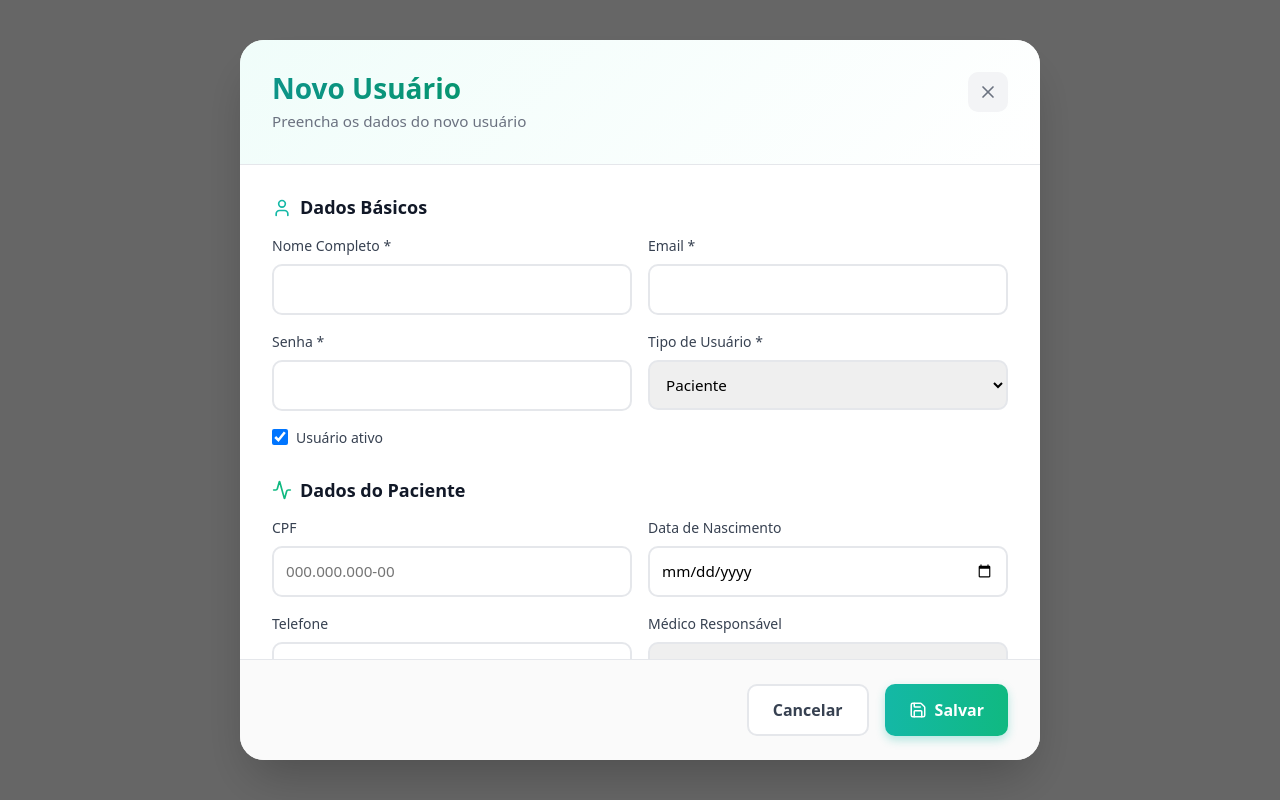
UserModal - Submissão e Validação › exibe erro se senha estiver vazia em novo usuário
Type "Novo User" into the field labelled "Nome Completo *".
click(452, 289); type("Novo User")  # box [272,264,632,315]
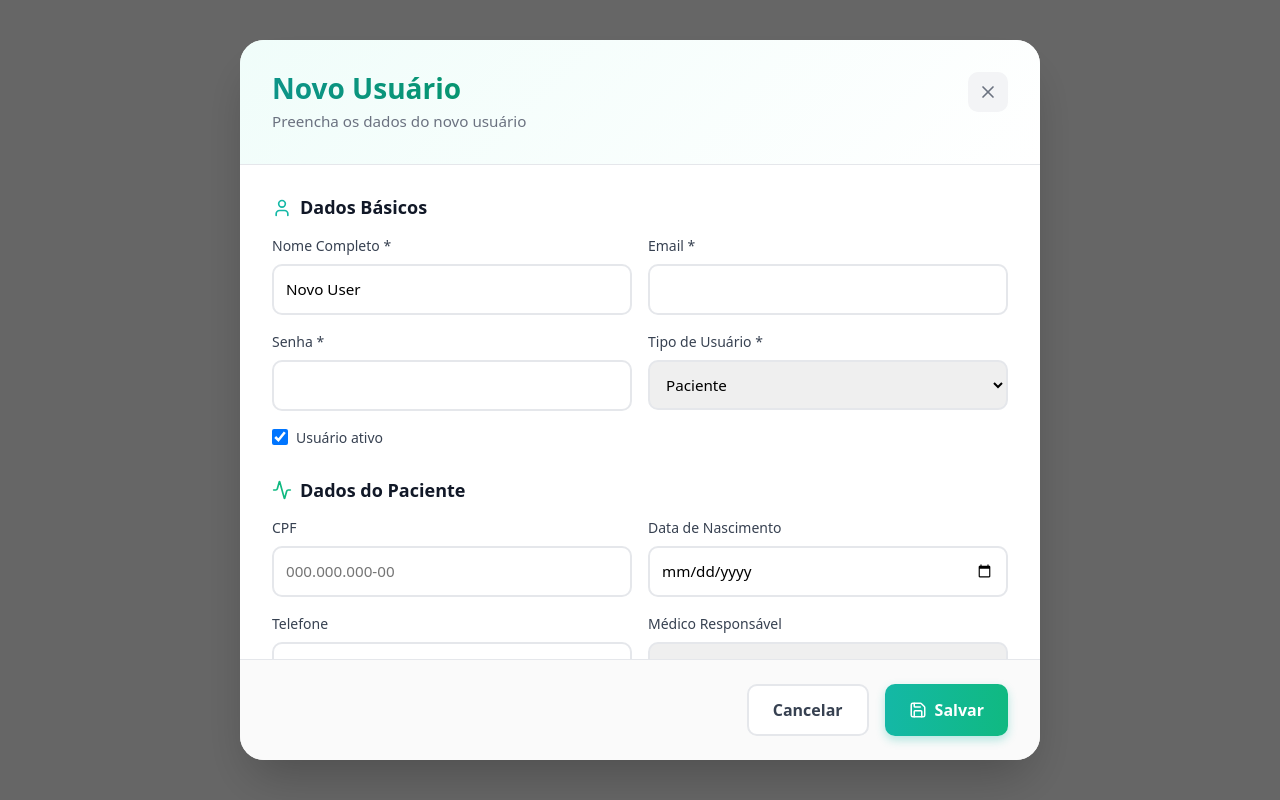
Type "novo@user.com" into the field labelled "Email *".
click(828, 289); type("novo@user.com")  # box [648,264,1008,315]
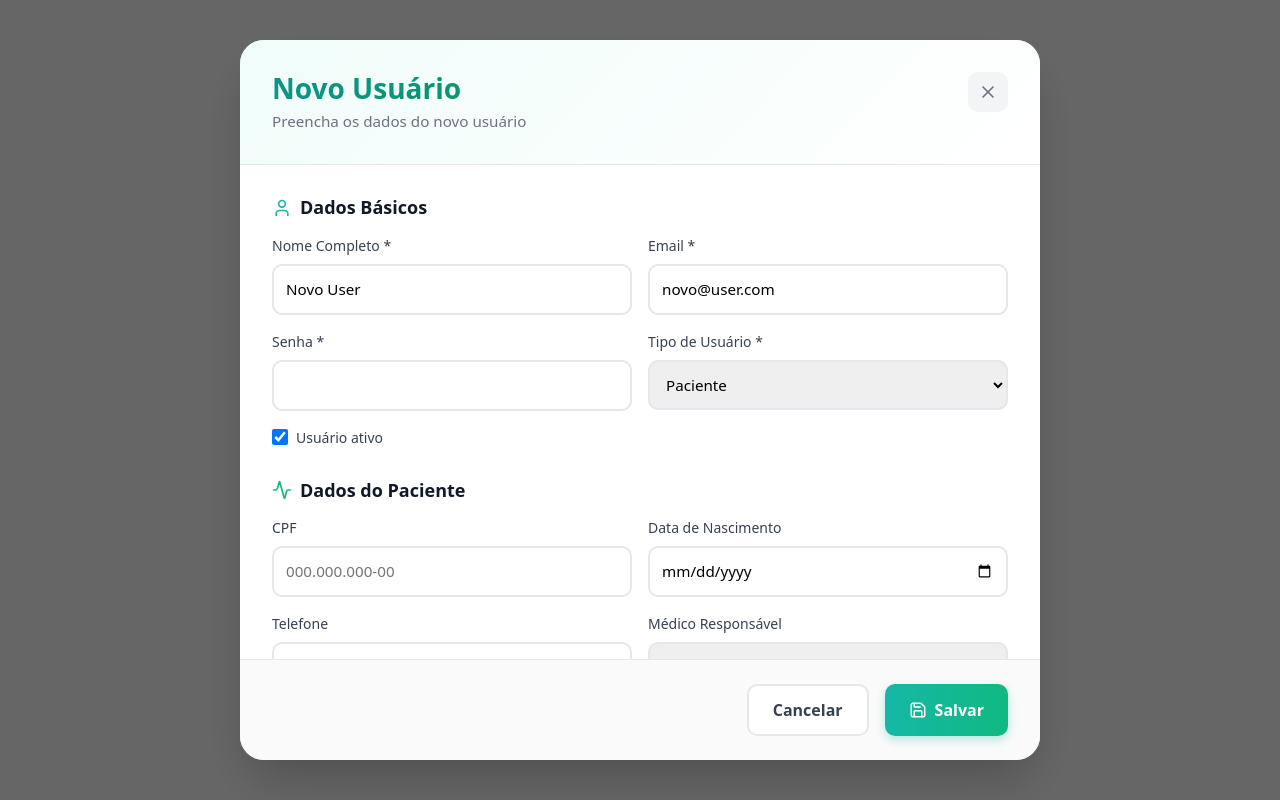
Click the button "Salvar".
click(946, 710)  # box [885,684,1008,736]
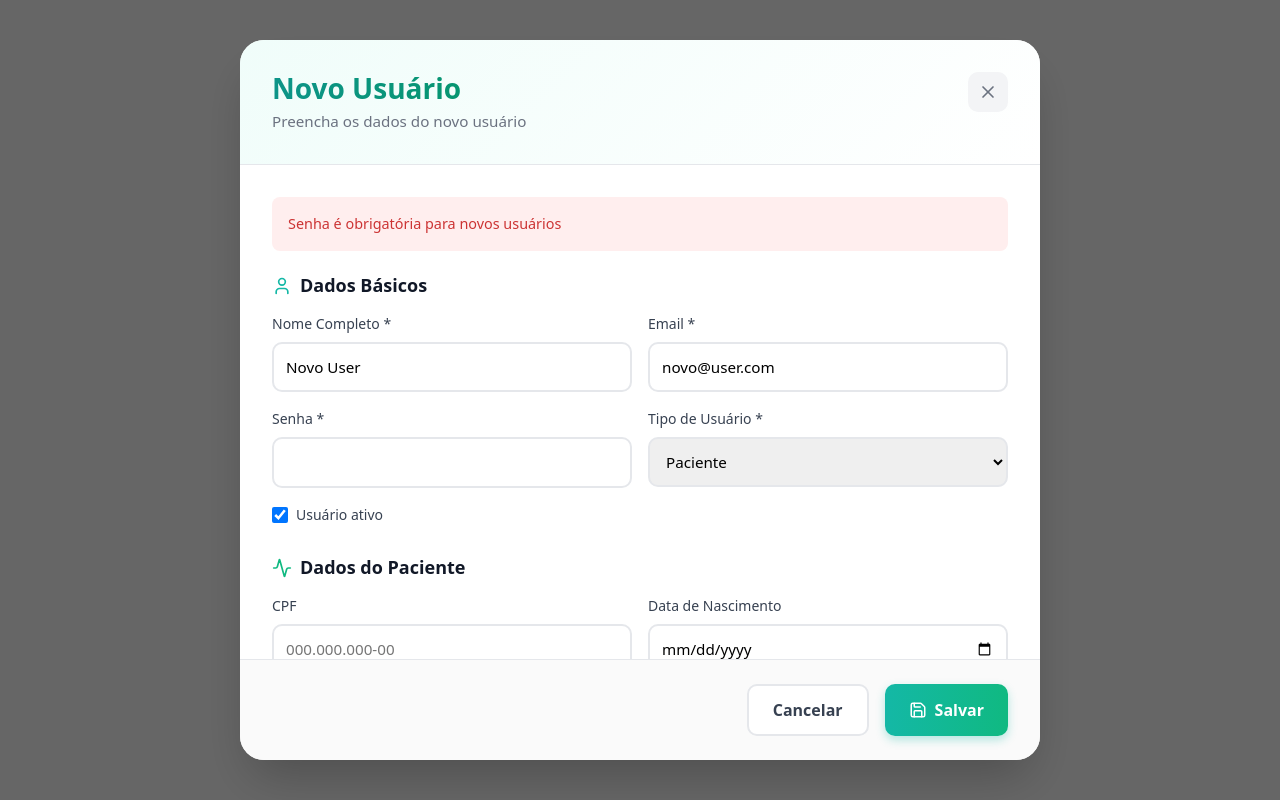
Expected: the text "Senha é obrigatória para novos usuários" is shown, [272,197,1008,251]
